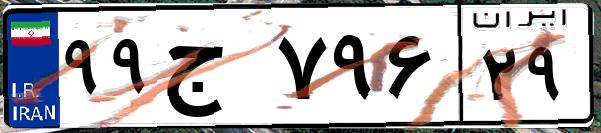2: (475, 38, 525, 113)
6: (385, 28, 445, 110)
7: (270, 28, 330, 110)
9: (330, 28, 385, 110), (57, 26, 110, 100), (525, 38, 570, 115), (110, 28, 158, 98)
ج: (158, 20, 270, 120)
